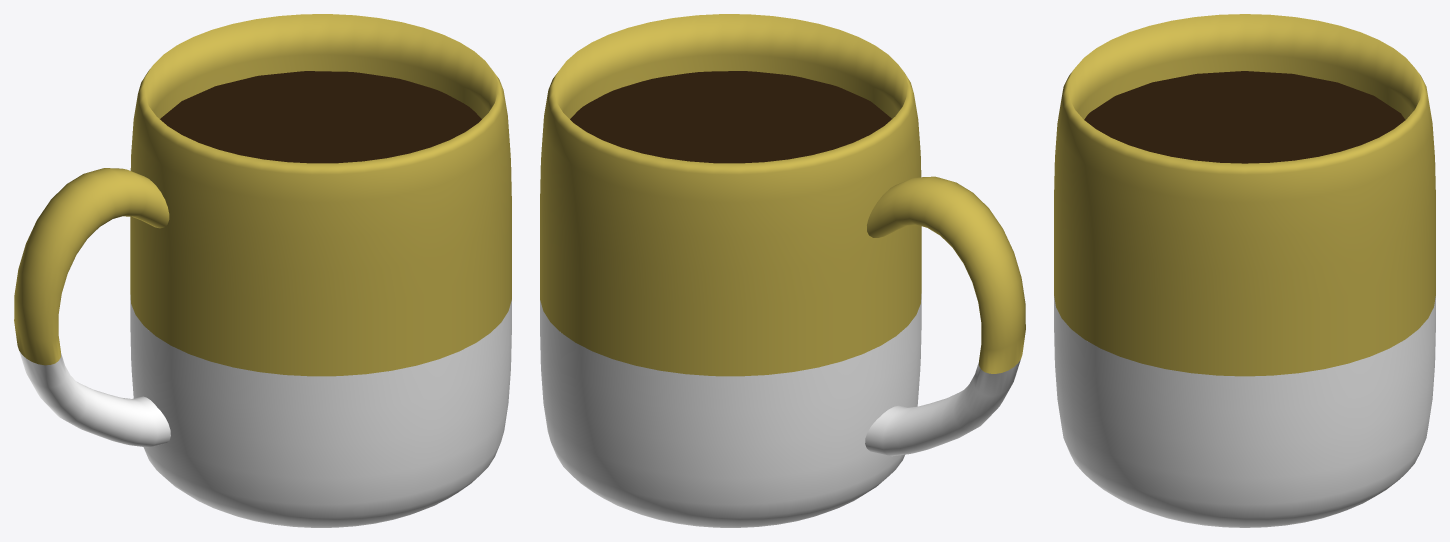
Rendered from mug.glb.
3 views of the same model, side by side, from view 1: azimuth 30°, elevation 25°; view 2: azimuth 150°, elevation 25°; view 3: azimuth 270°, elevation 25° (orthographic).
Visible parts, largest first — view 1: mug002; view 2: mug002; view 3: mug002.
Part boxes in pixels (x1=…): mug002: x1=14, y1=14, x2=511, y2=527; mug002: x1=540, y1=14, x2=1025, y2=527; mug002: x1=1054, y1=14, x2=1435, y2=527.
Bounding box in the file's own units: 0.8672 × 0.697 × 0.6268.
